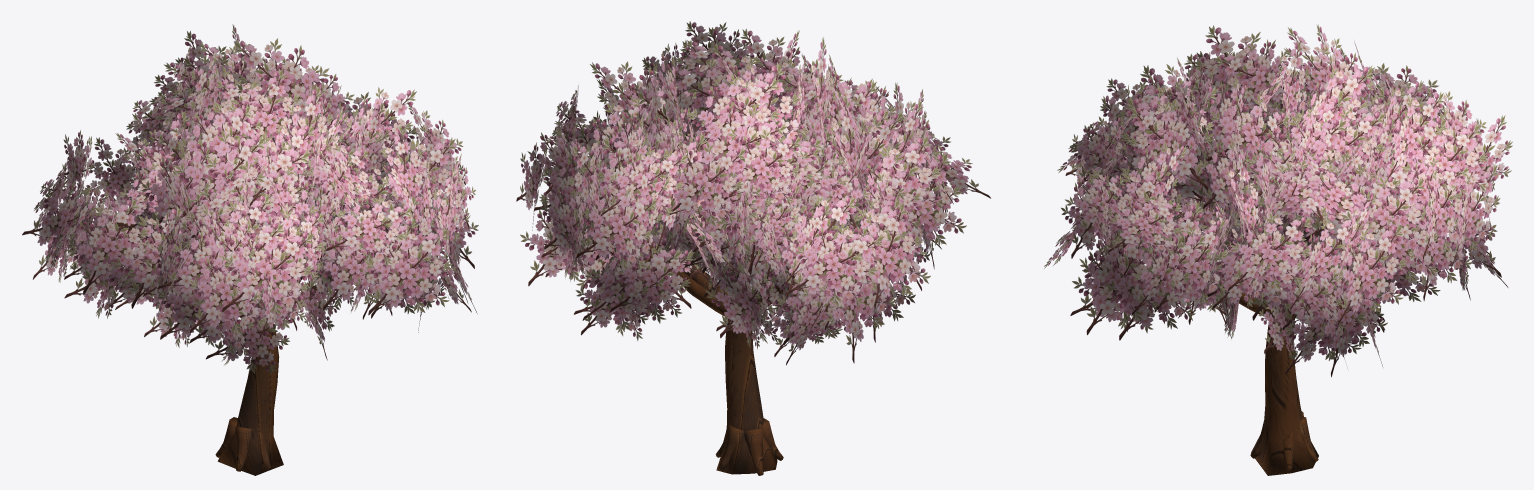
Rendered from tree_blossom_v2.glb.
3 views of the same model, side by side, from view 1: azimuth 30°, elevation 25°; view 2: azimuth 150°, elevation 25°; view 3: azimuth 270°, elevation 25° (orthographic). The views are drawn at different scales.
Parts seen in each view (by area): view 1: TreeCanopy_Blossom, TreeBark_Blossom; view 2: TreeCanopy_Blossom, TreeBark_Blossom; view 3: TreeCanopy_Blossom, TreeBark_Blossom.
Part boxes in pixels (x1,y1,x2,y2): TreeCanopy_Blossom: (22,24,478,374); TreeBark_Blossom: (112,222,390,475); TreeCanopy_Blossom: (516,21,990,365); TreeBark_Blossom: (592,144,873,475); TreeCanopy_Blossom: (1044,24,1512,377); TreeBark_Blossom: (1109,202,1448,475).
Size of the model in its own units: 6.5 by 6.19 by 6.29.
2 materials, 2 textured.
